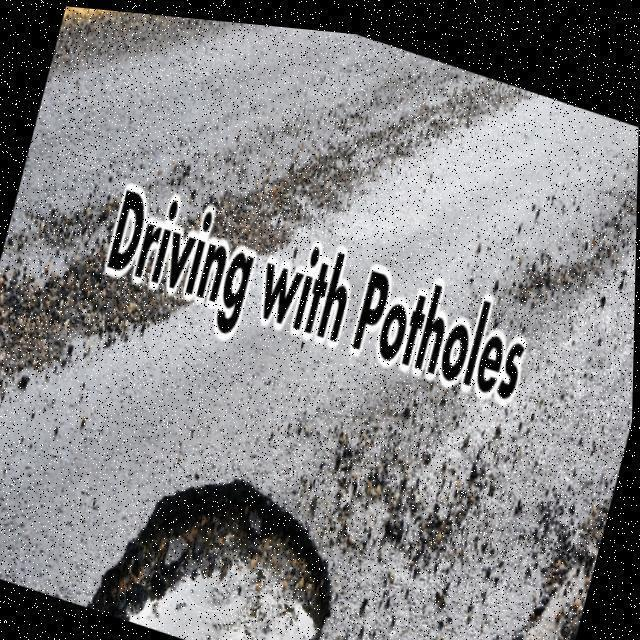Pothole: (82, 473, 342, 640)
